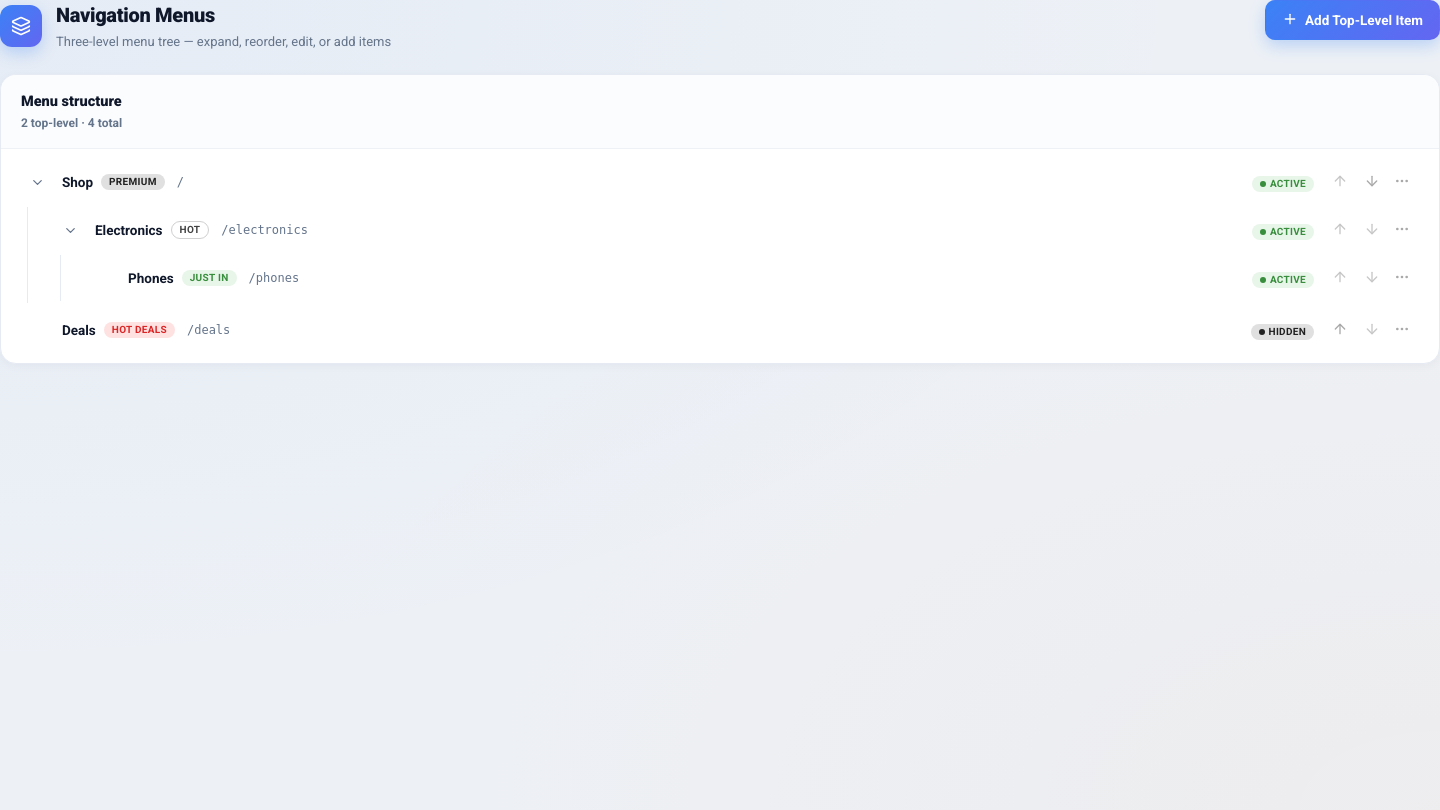
Test case: MenuTreeEditor › category page offer › hides the offer once a category is linked
The image size is (1440, 810).
Expected: the text "Shop" is shown, [62,172,93,192]
Click the button "Add Top-Level Item": x=1352, y=20 [1265,0,1439,40]
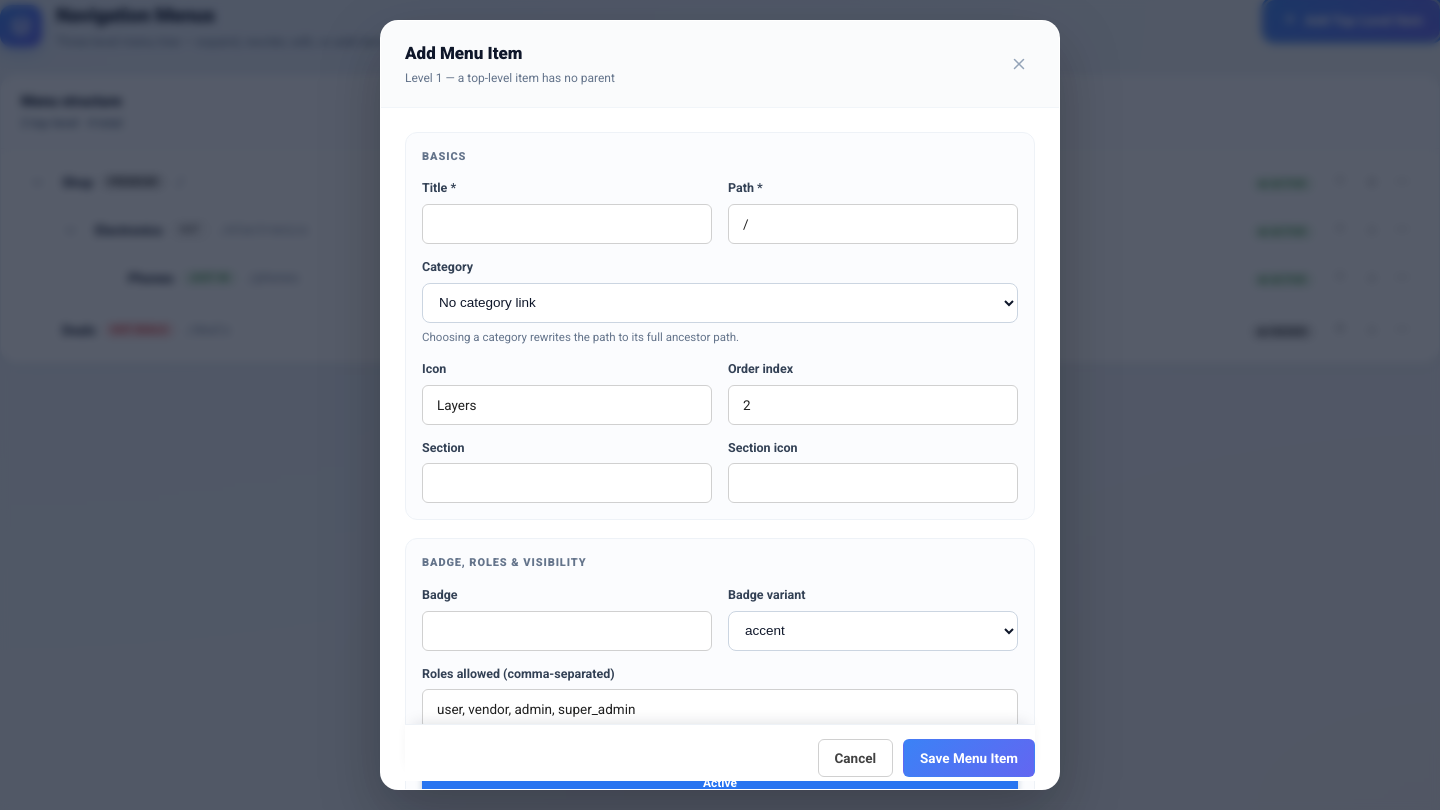
In the field labelled "Title *": x=567, y=224 [422,204,712,244], type "Audio"
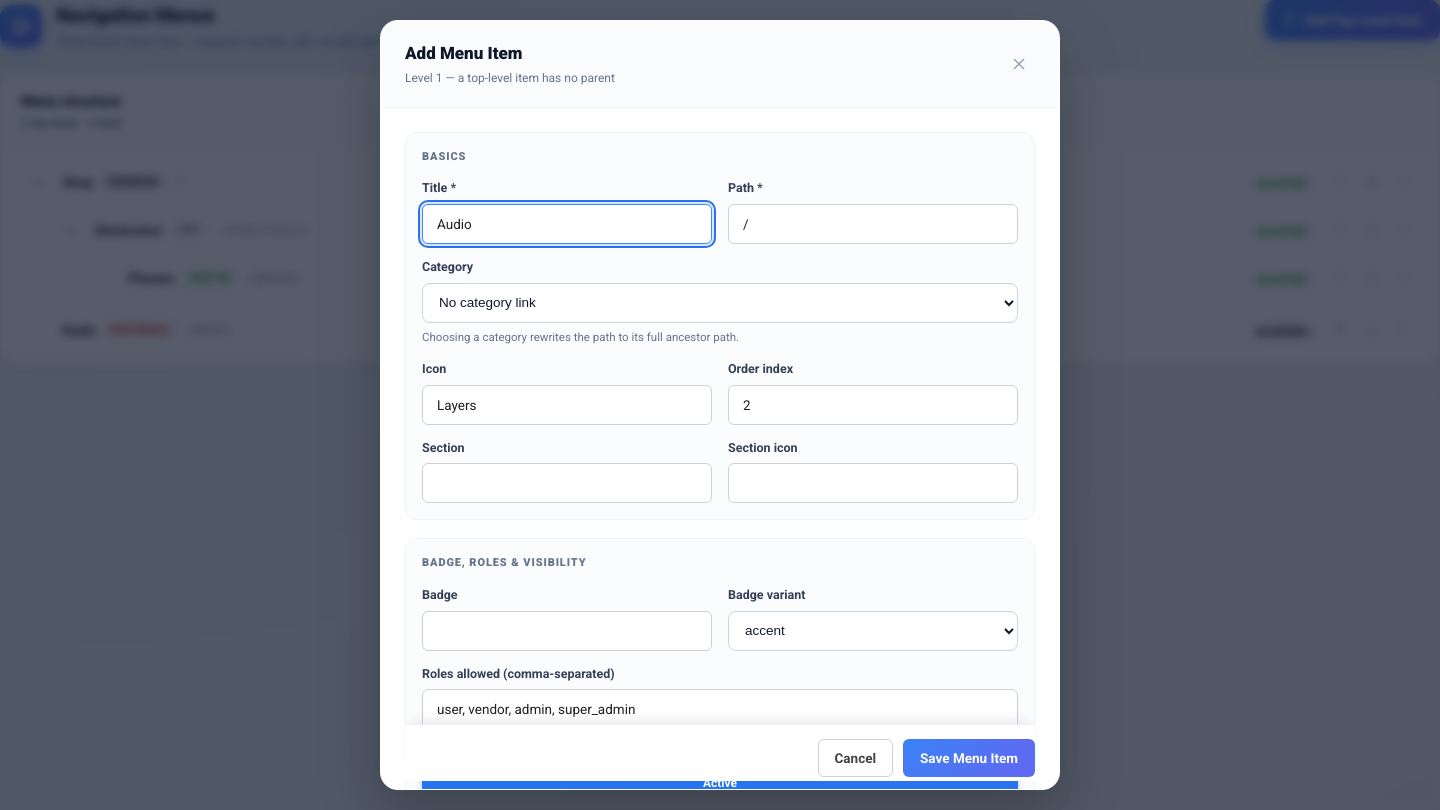
Replace the text in the field labelled "Path *" with "/category/audio": x=873, y=224 [728,204,1018,244]
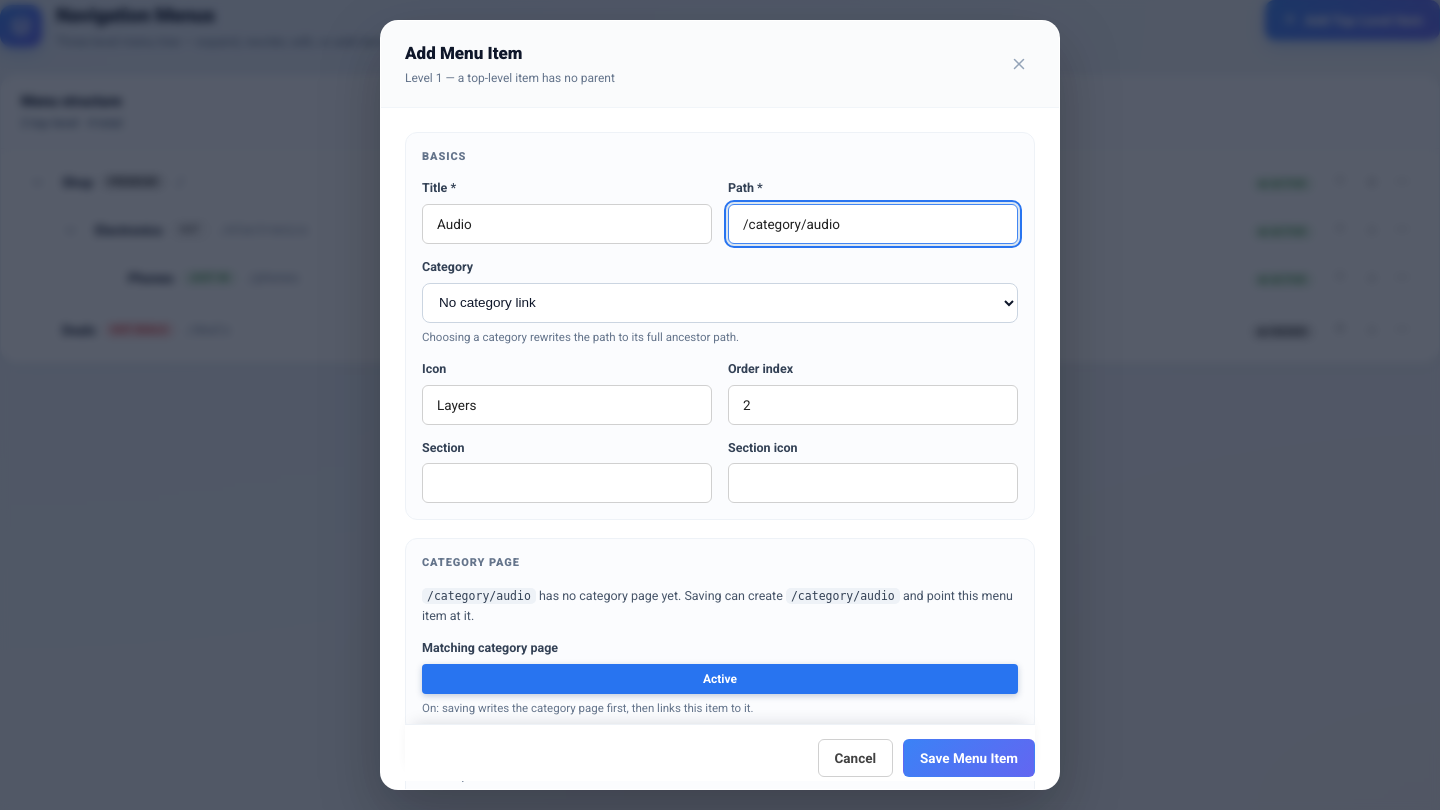
Expected: the element with test id "menu-create-category" is shown, [405,538,1035,734]
Select "Electronics / Mobiles" in the dropdown labelled "Category": x=720, y=302 [422,282,1018,322]
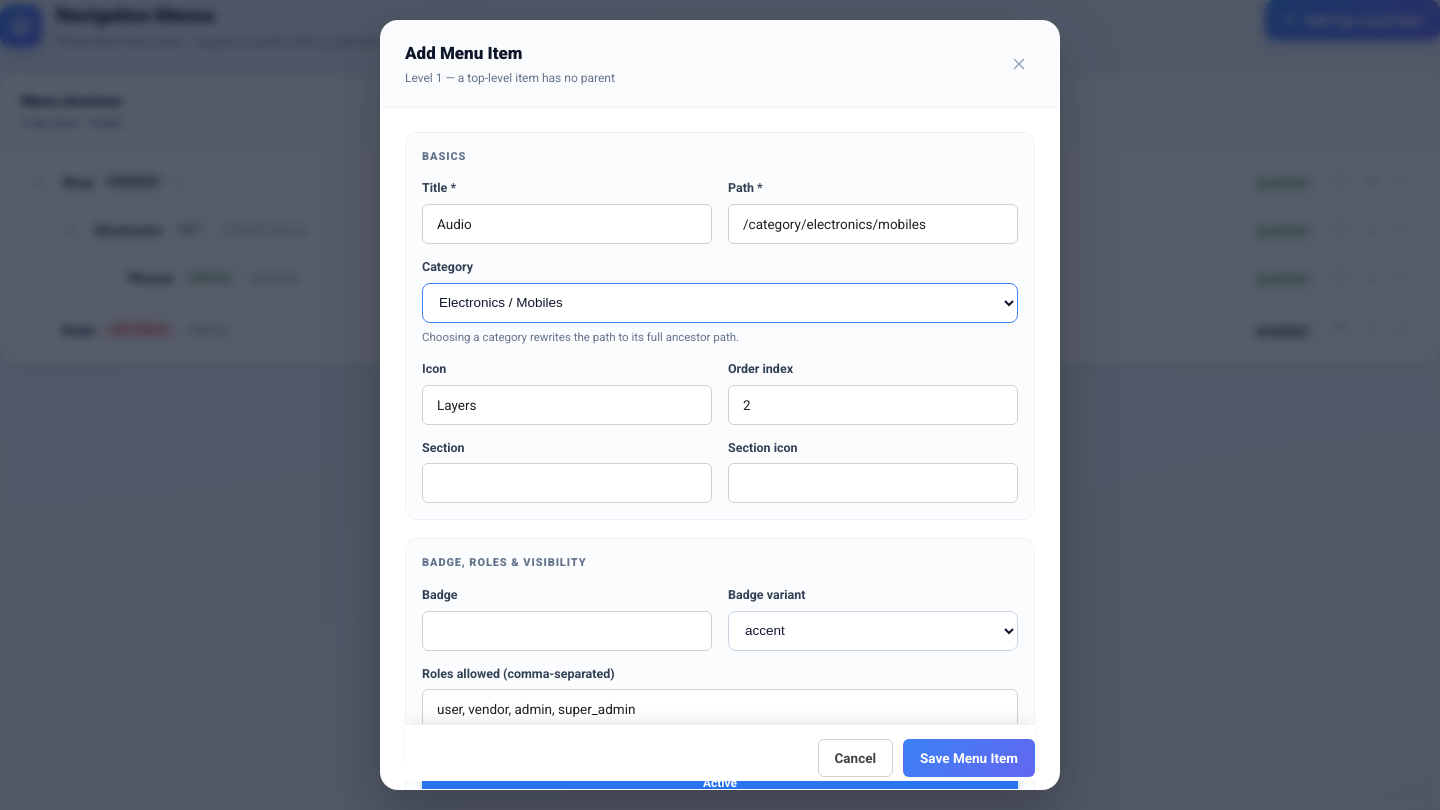
Expected: the element with test id "menu-create-category" is gone
Expected: the field labelled "Path *" holds "/category/electronics/mobiles", [728,204,1018,244]
